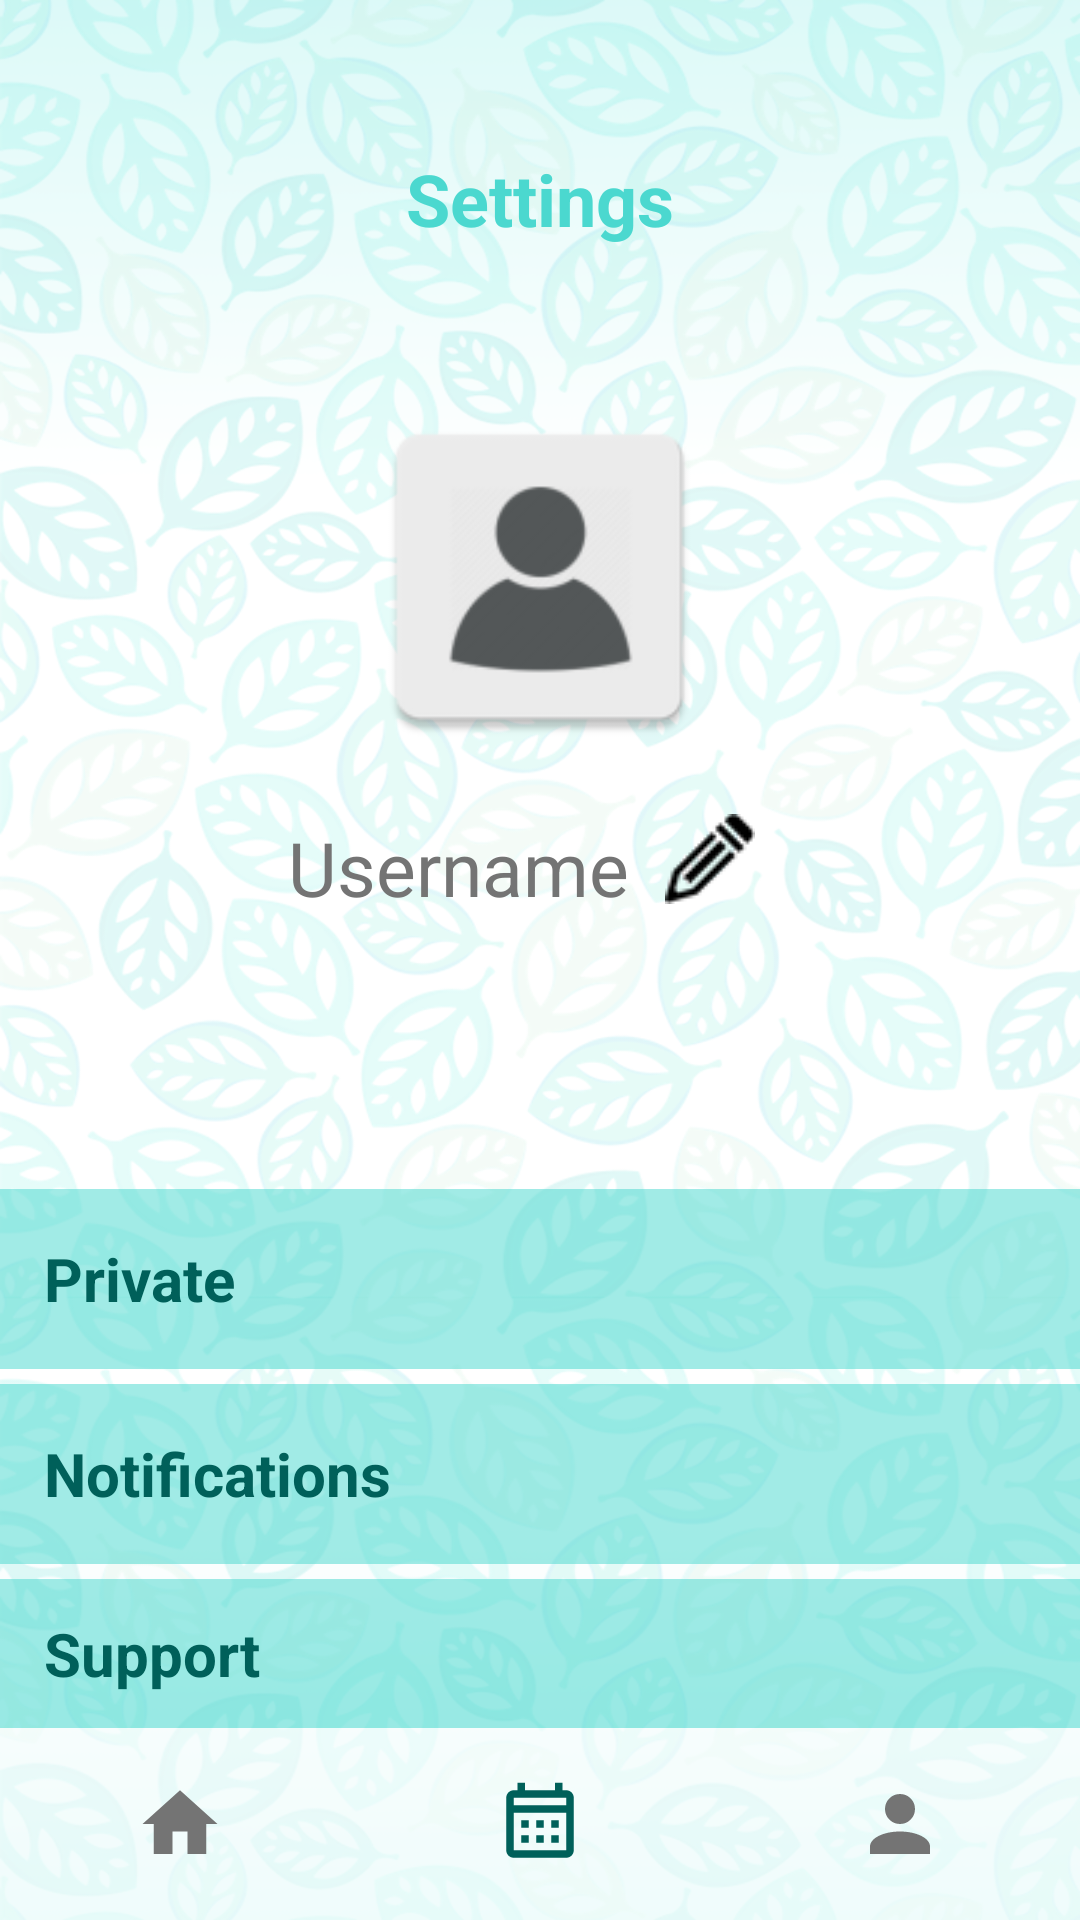

Point at icon controls on the screen. Image size 1080px x 1920px, points as [x,y].
account: [900,1824]
calendar month: [540,1820]
home: [180,1822]
